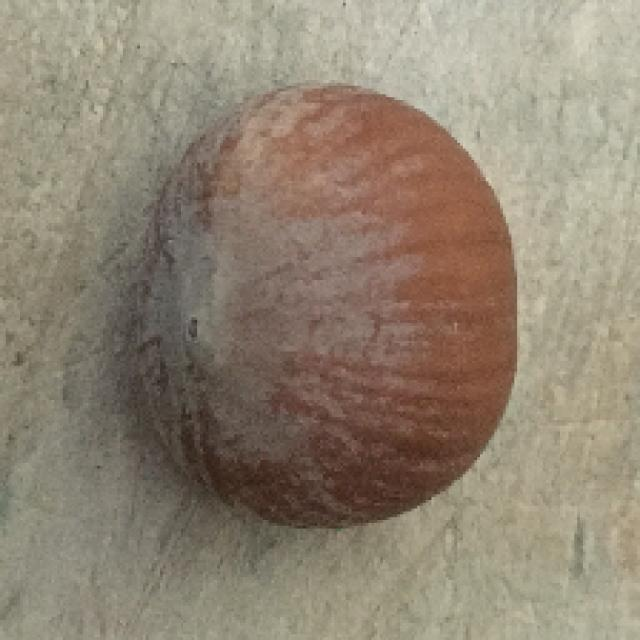qualityHazelnut: (134, 84, 516, 533)
